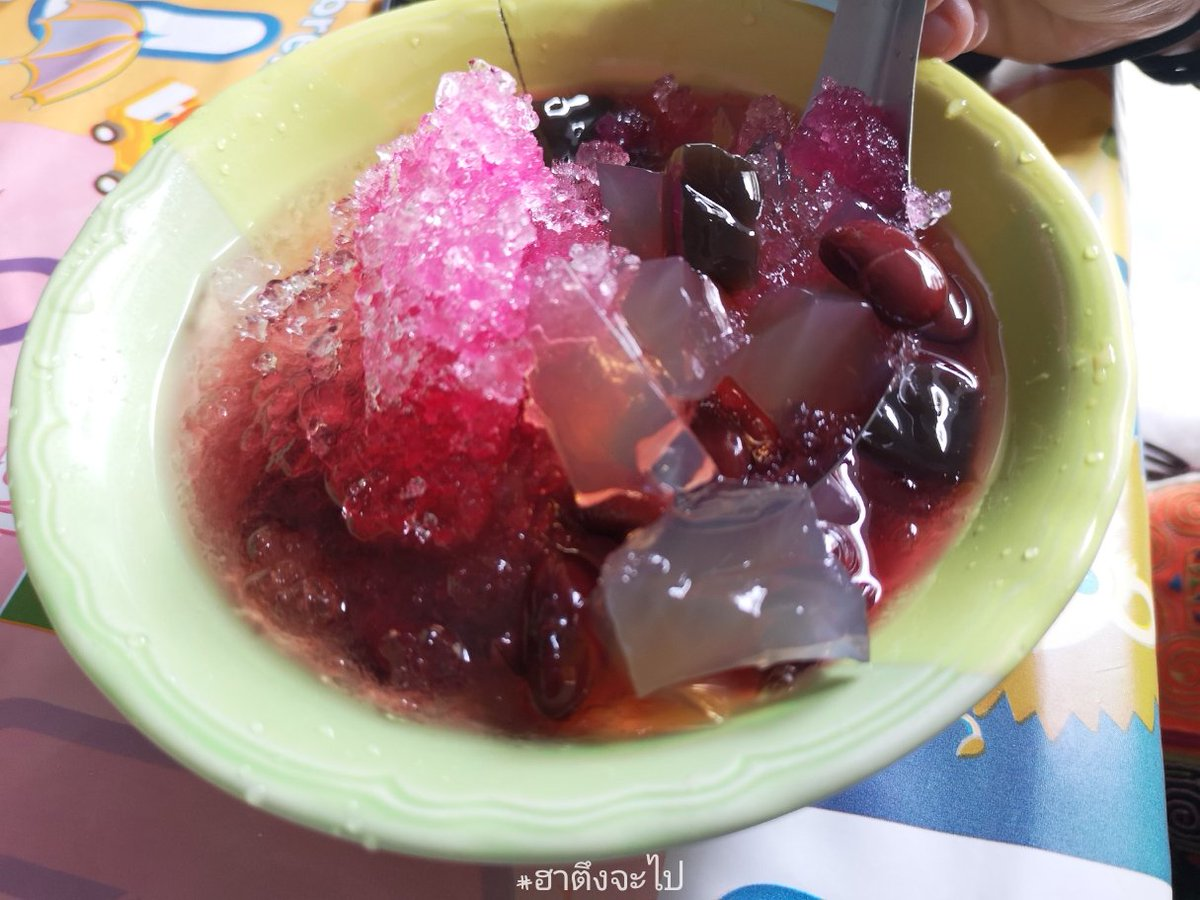O-eo: (159, 16, 1094, 811)
